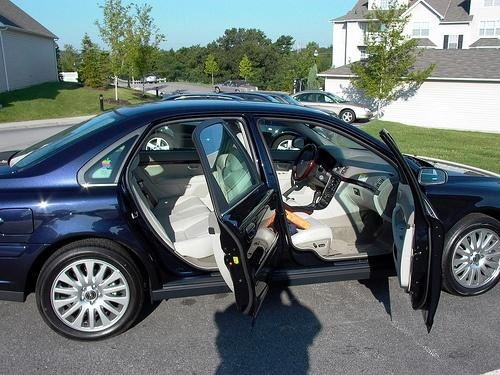car: (2, 103, 500, 344), (294, 89, 375, 125), (213, 78, 260, 98)
